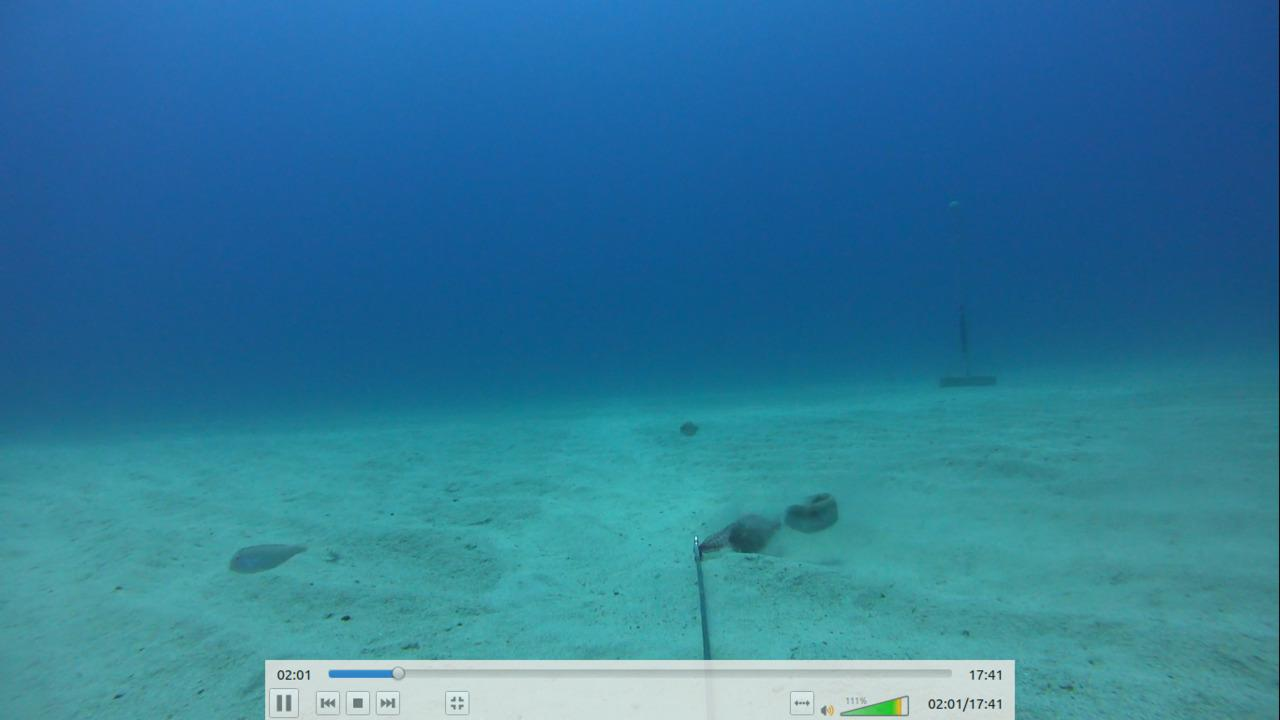raor: (223, 532, 308, 580), (782, 485, 845, 540)
